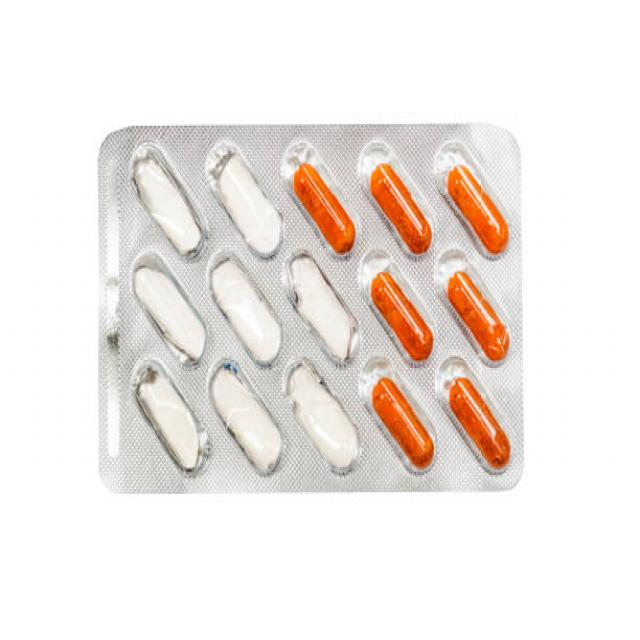Empty: (195, 230, 305, 391), (111, 127, 223, 282), (121, 234, 227, 392), (116, 339, 224, 490), (198, 126, 301, 283), (267, 340, 375, 489), (272, 237, 377, 390), (200, 342, 302, 492)
Pill: (343, 333, 453, 487), (345, 229, 450, 390), (354, 120, 453, 287), (277, 123, 375, 284), (430, 333, 524, 486), (428, 233, 522, 385), (433, 122, 520, 282)
